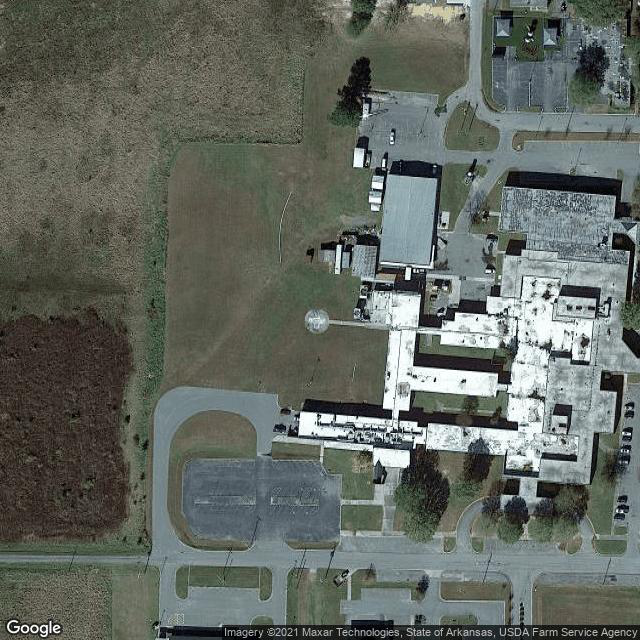Helipad: (302, 305, 330, 335)
